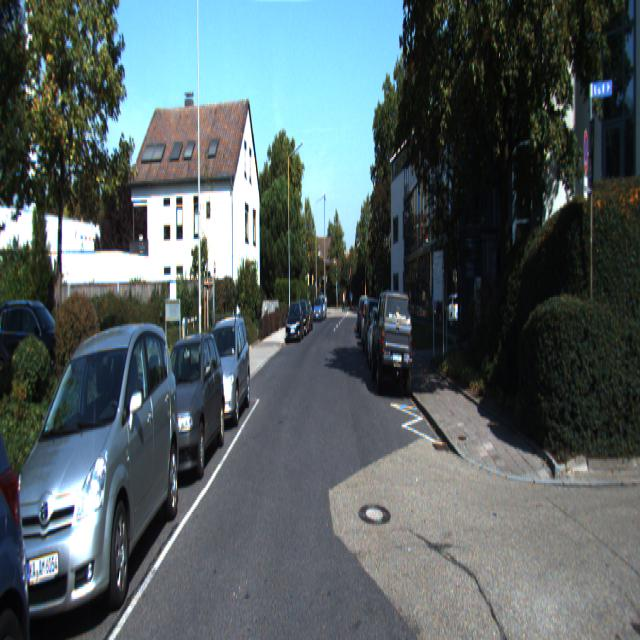Car: (0, 317, 184, 638), (0, 342, 53, 638), (144, 328, 226, 486), (194, 313, 252, 429), (371, 287, 415, 399), (286, 301, 304, 344), (313, 296, 324, 322)
